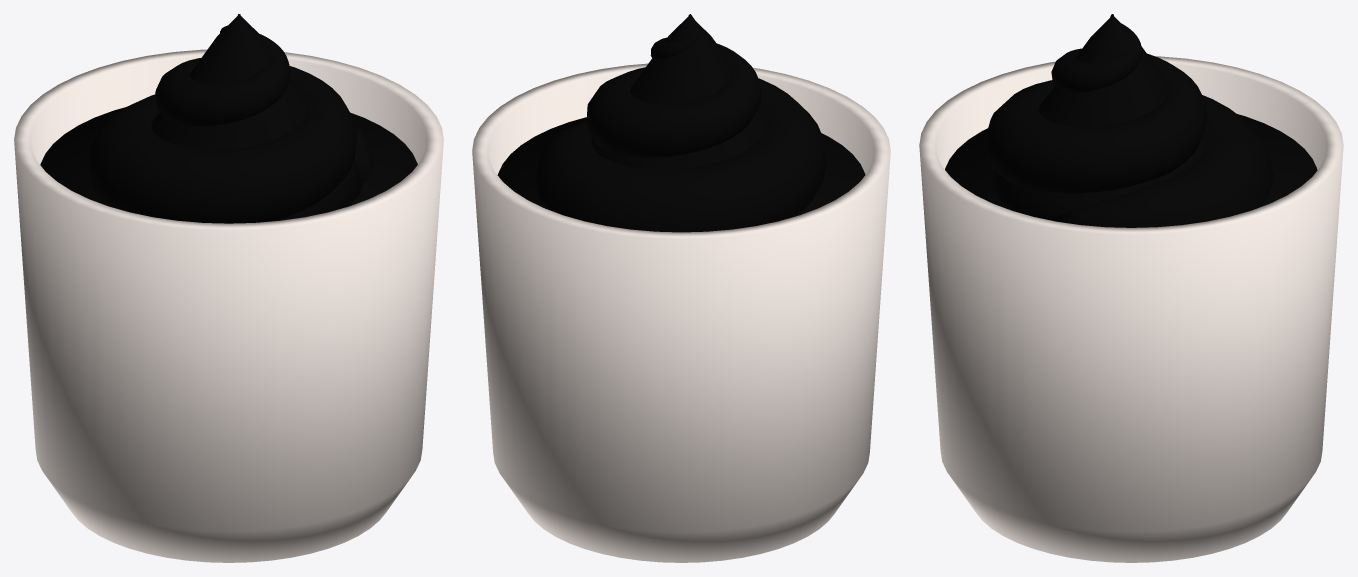
The model's file is Menu_Einspanner.fbx.
The picture shows the model from 3 angles, left to right: view 1: azimuth 30°, elevation 25°; view 2: azimuth 150°, elevation 25°; view 3: azimuth 270°, elevation 25°; orthographic projection. The views are drawn at different scales.
Parts seen in each view (by area): view 1: Menu_Einspanner.001; view 2: Menu_Einspanner.001; view 3: Menu_Einspanner.001.
Part boxes in pixels (x1,y1,x2,y2): Menu_Einspanner.001: (14,14,443,562); Menu_Einspanner.001: (472,14,890,562); Menu_Einspanner.001: (919,14,1343,562).
Size of the model in its own units: 49.66 by 62.1 by 49.66.
